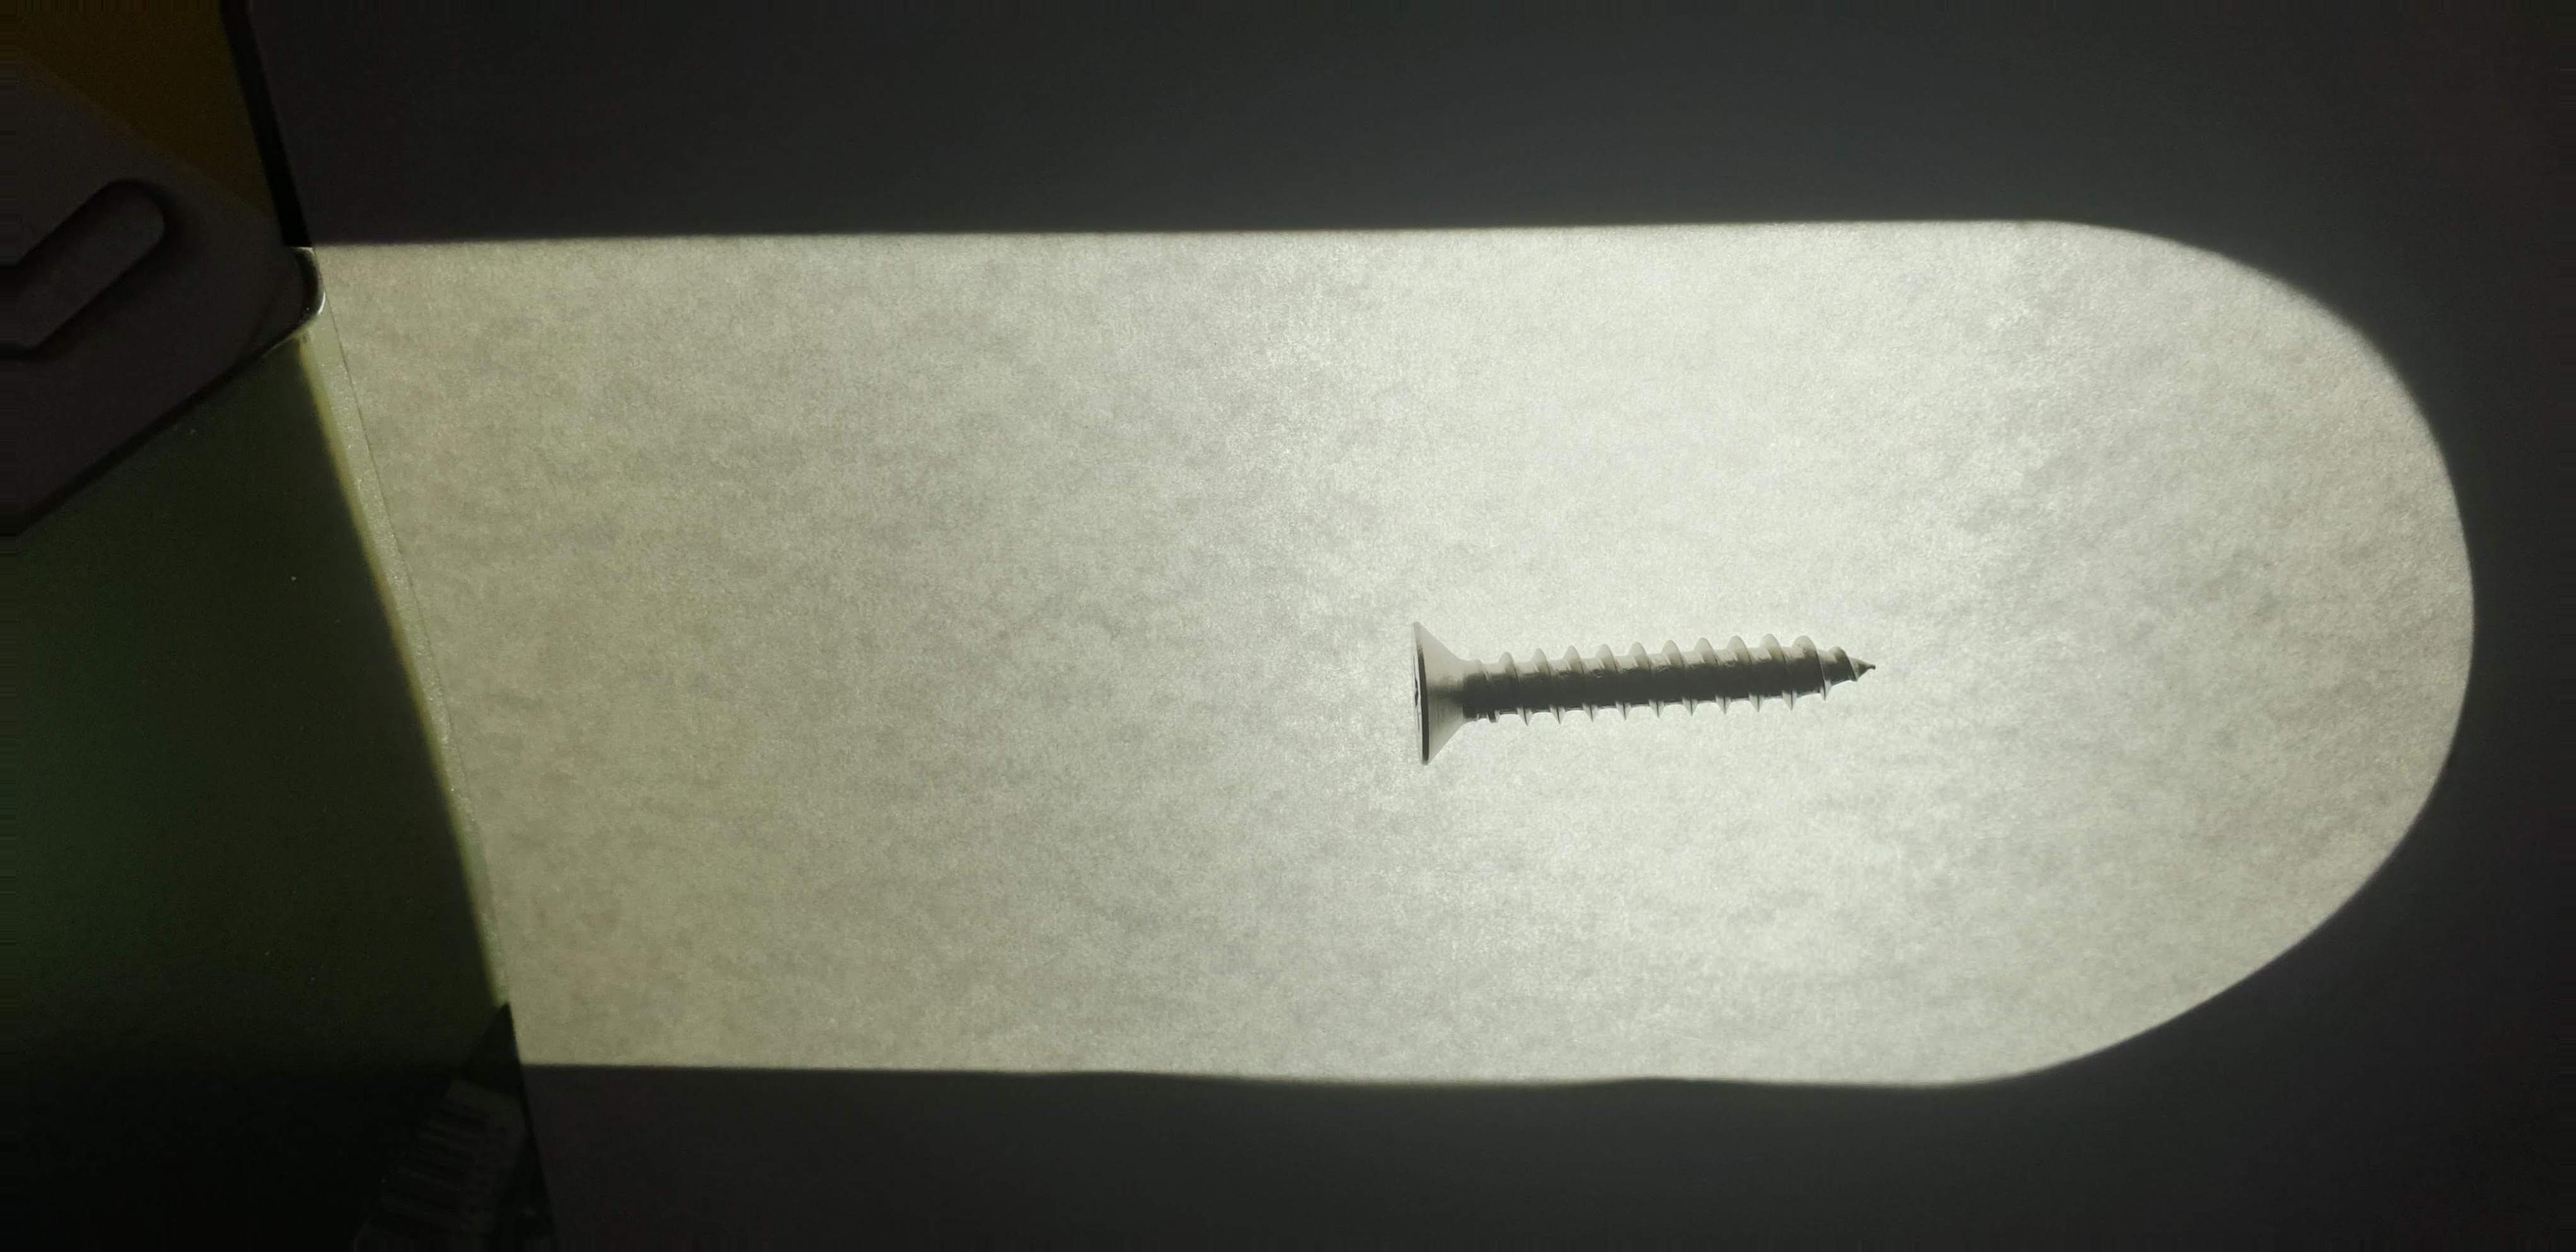S004: (1387, 568, 1909, 790)
